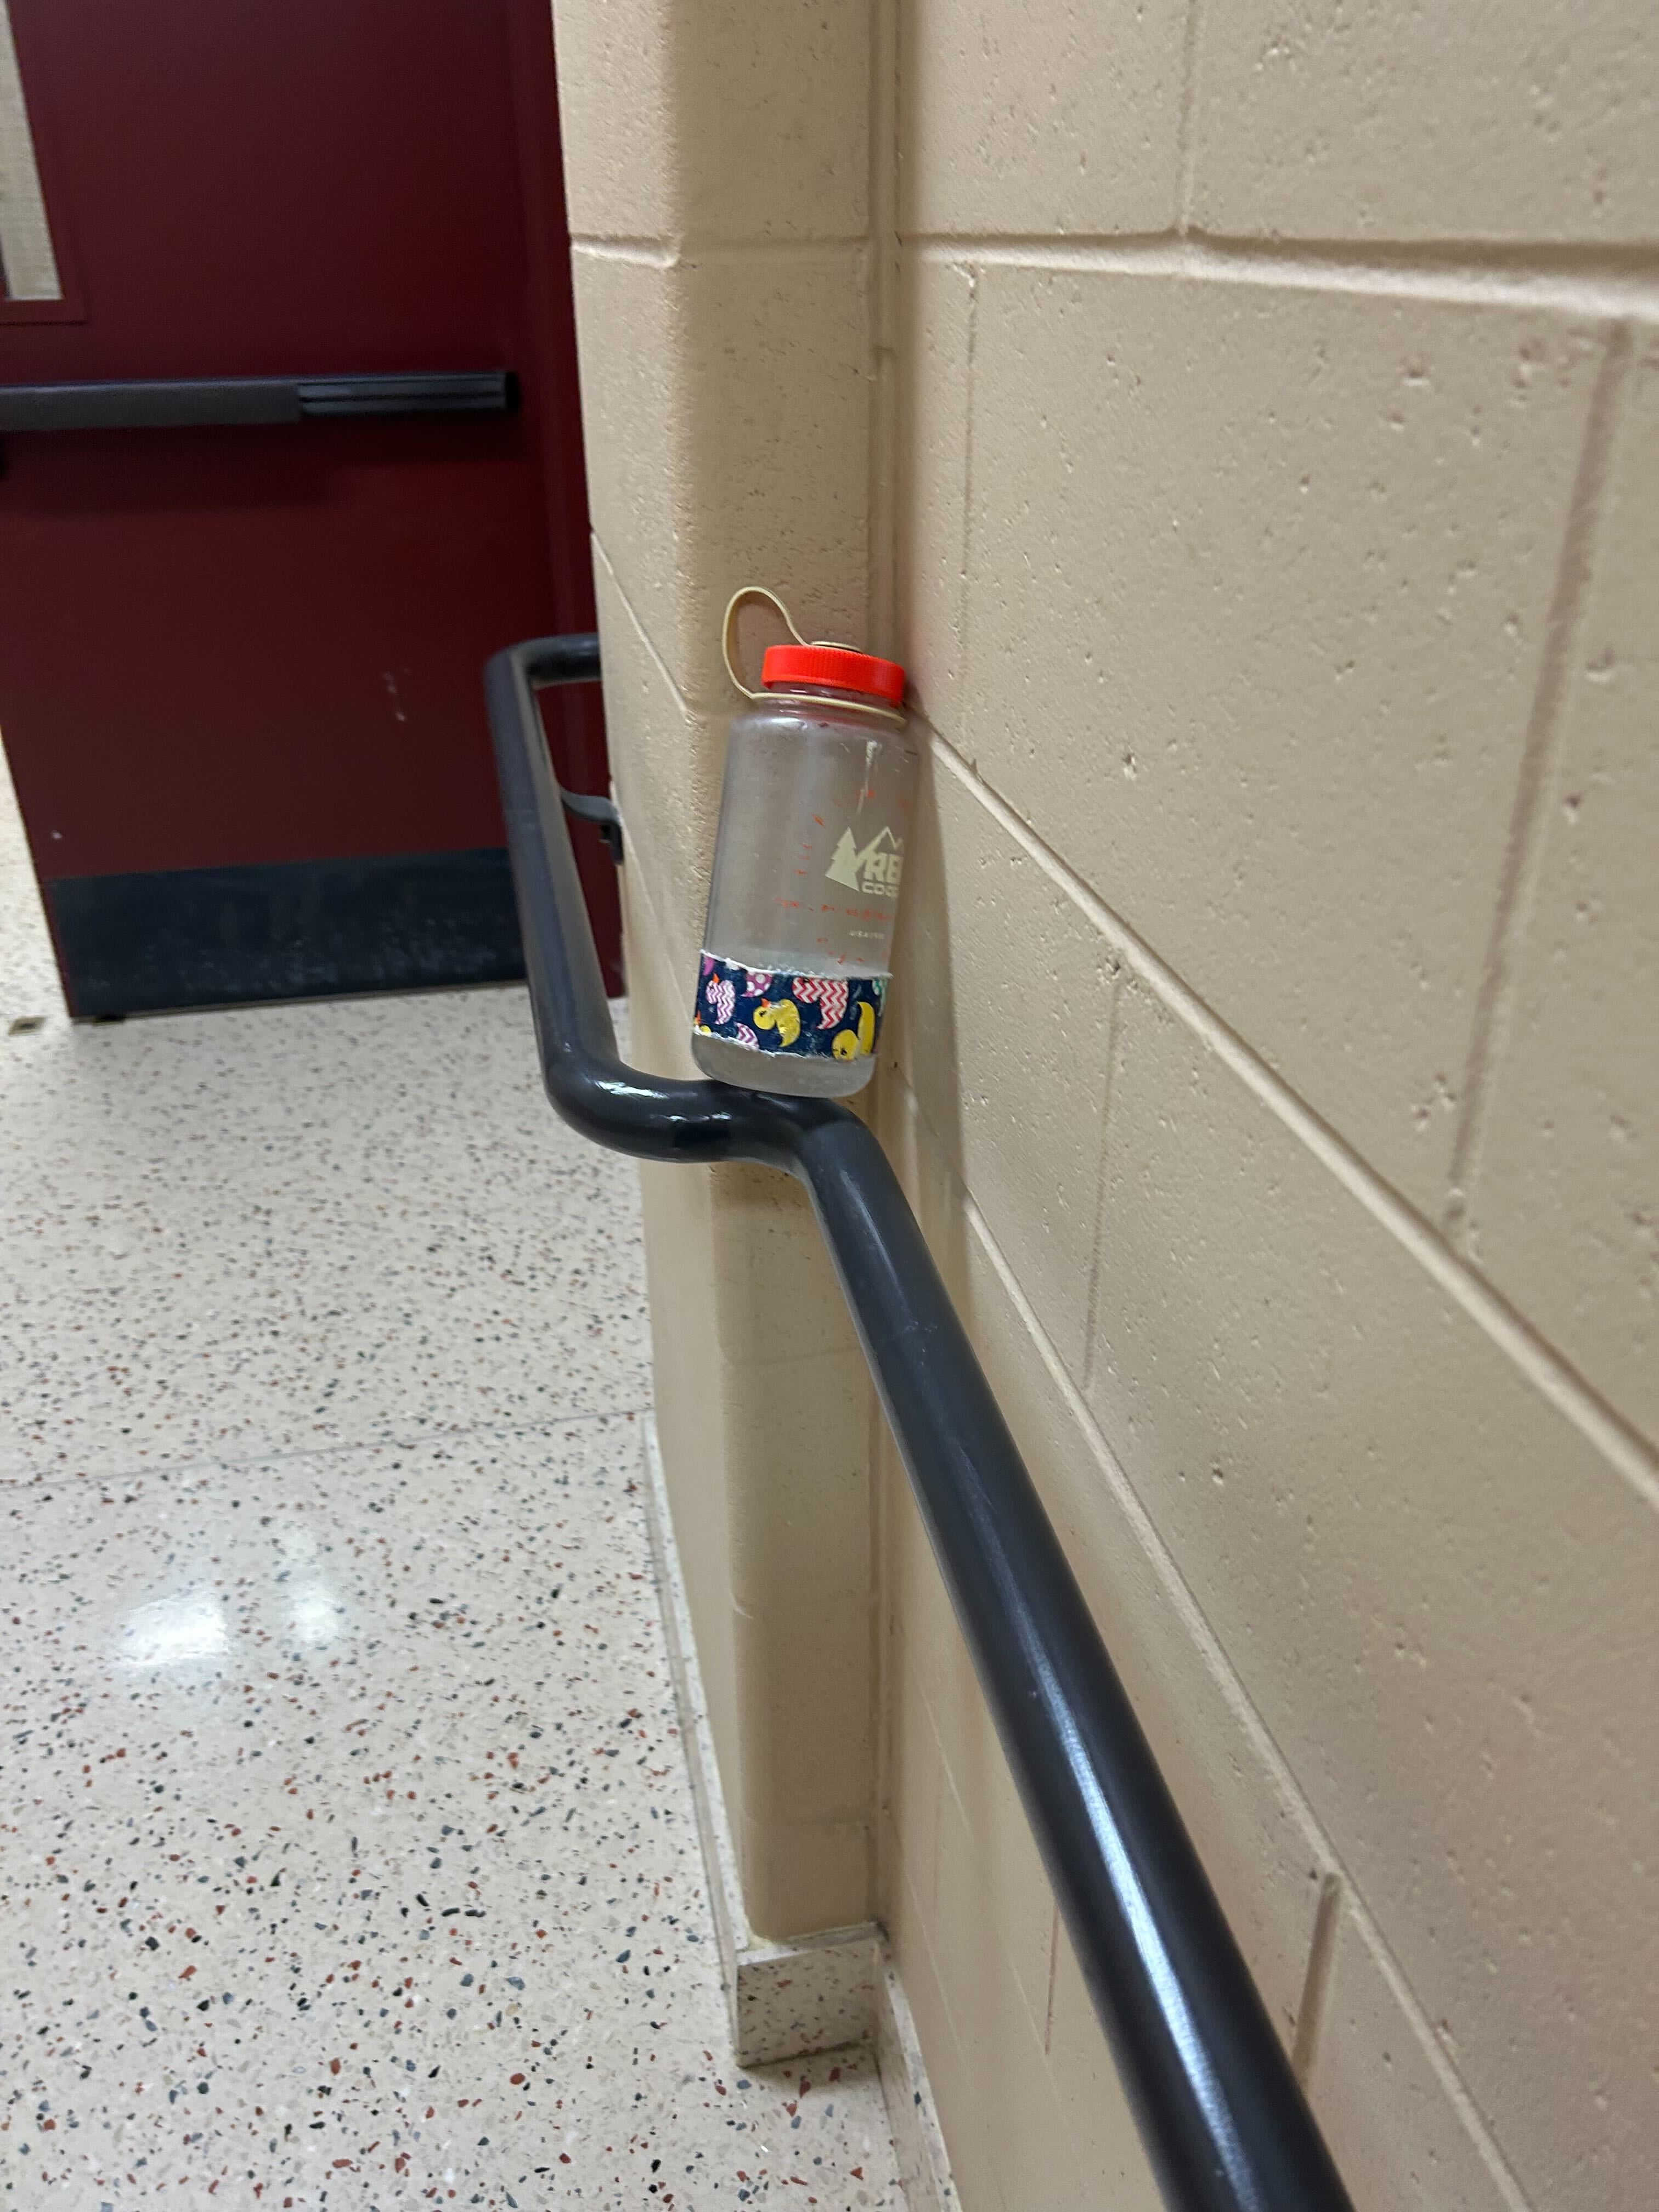bottle: (685, 573, 917, 1104)
